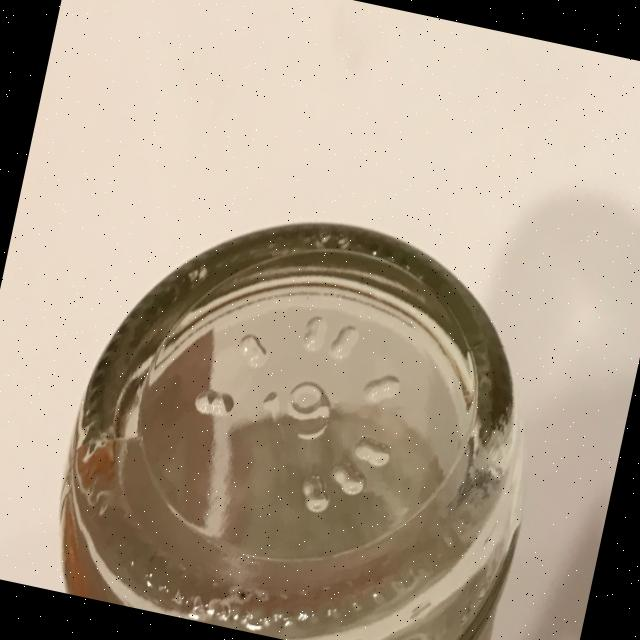glass: (38, 174, 575, 640)
